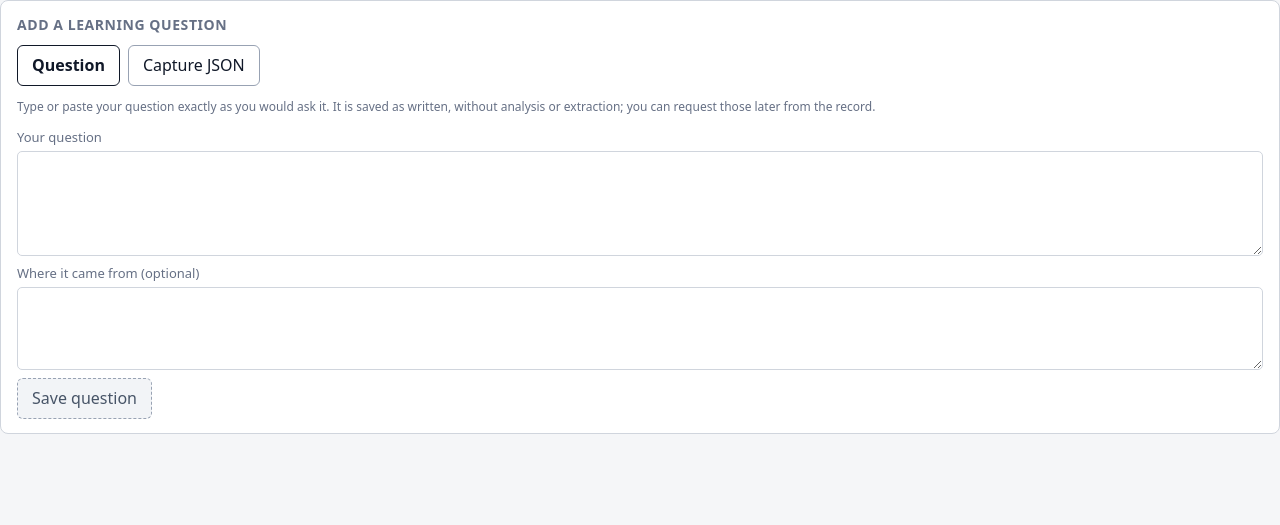
QuestionIntake question mode › keeps the text after a validation rejection, and a corrected save uses a new identity
The width and height of the screenshot is (1280, 525).
In the text box labelled "Your question": (640, 203) [17, 151, 1263, 256], type "trop long"
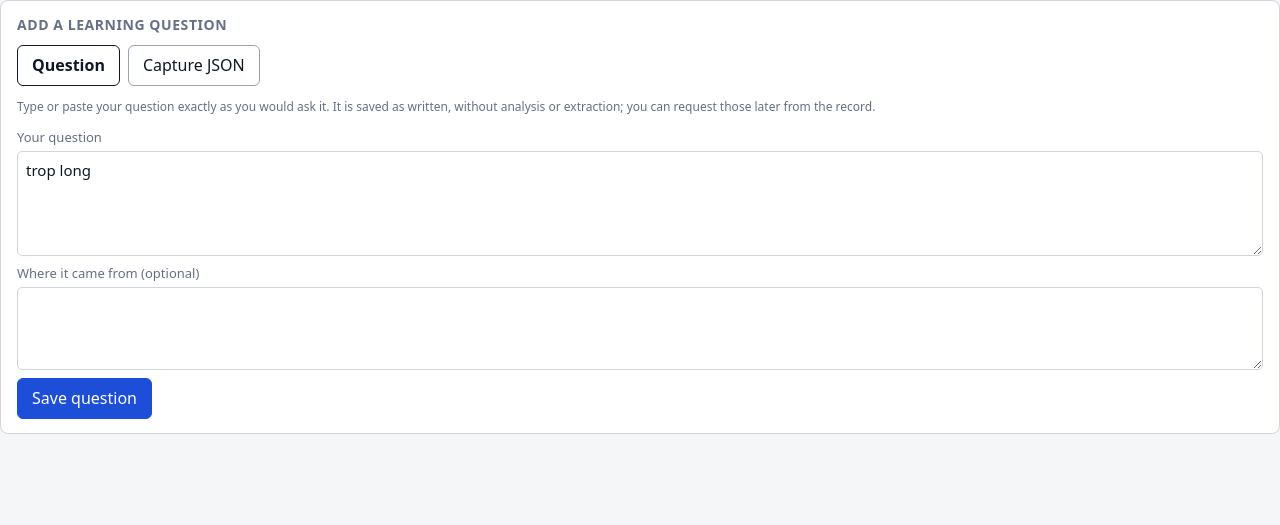
Click the button "Save question": (84, 398) [17, 378, 152, 419]
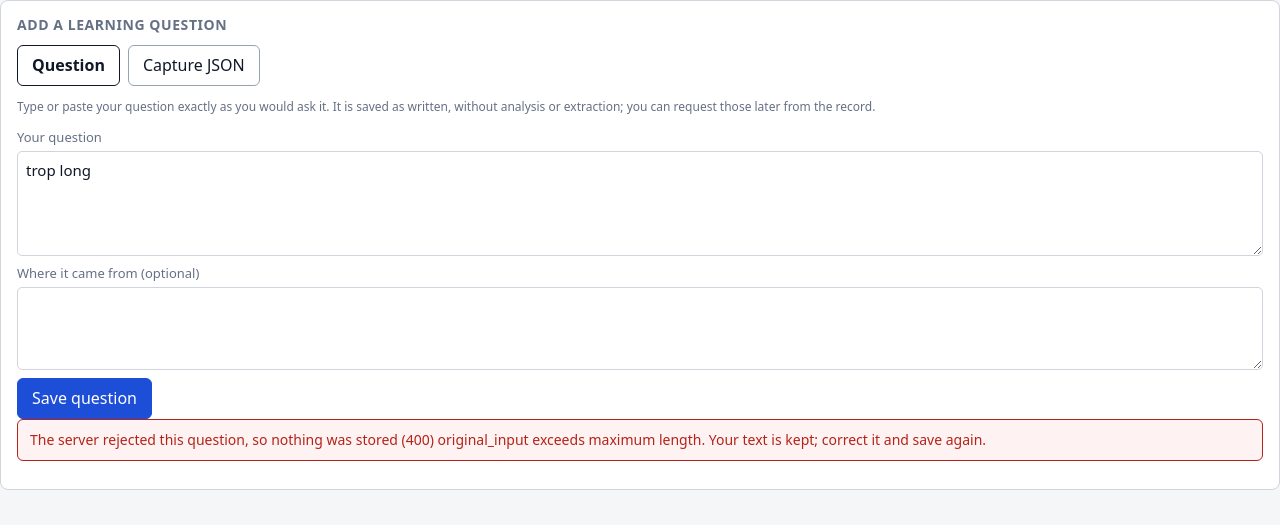
Expected: the text "rejected this question, so nothing was stored" shows "original_input exceeds maximum length", [30, 430, 986, 449]
Replace the text in the text box labelled "Your question" with "plus court": (640, 203) [17, 151, 1263, 256]
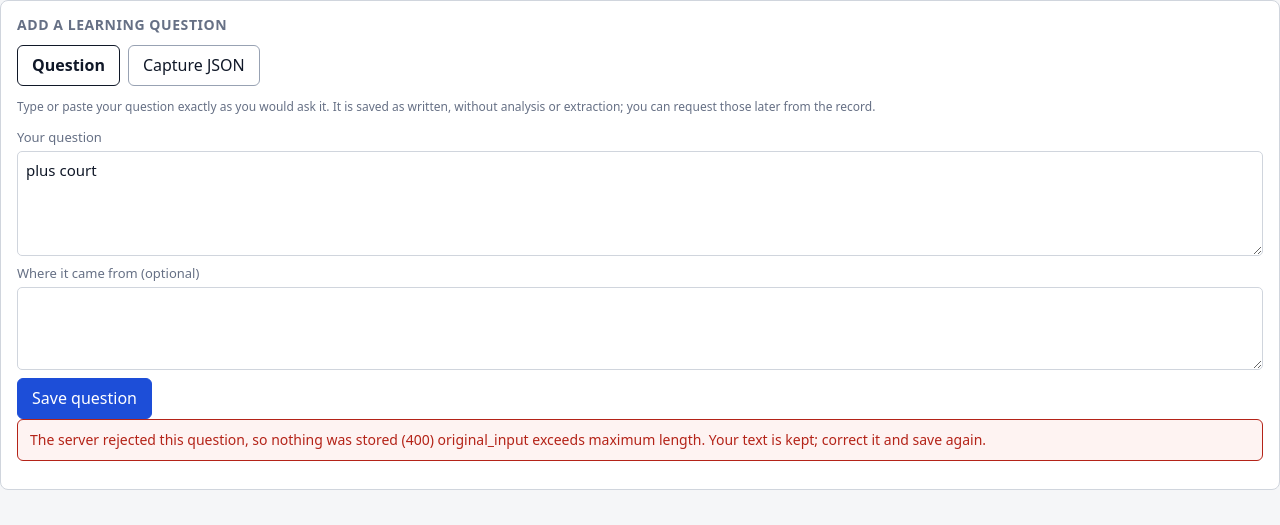
Click the button "Save question": (84, 398) [17, 378, 152, 419]
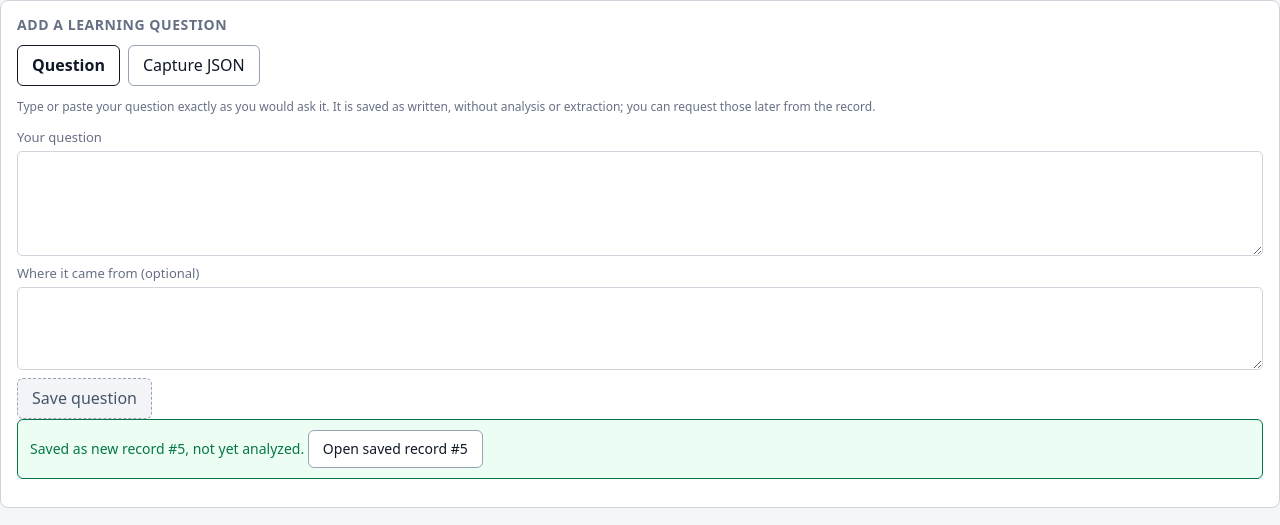
Expected: the text "Saved as new record #5, not yet analyzed. Open saved record #5" is shown, [17, 419, 1263, 479]
